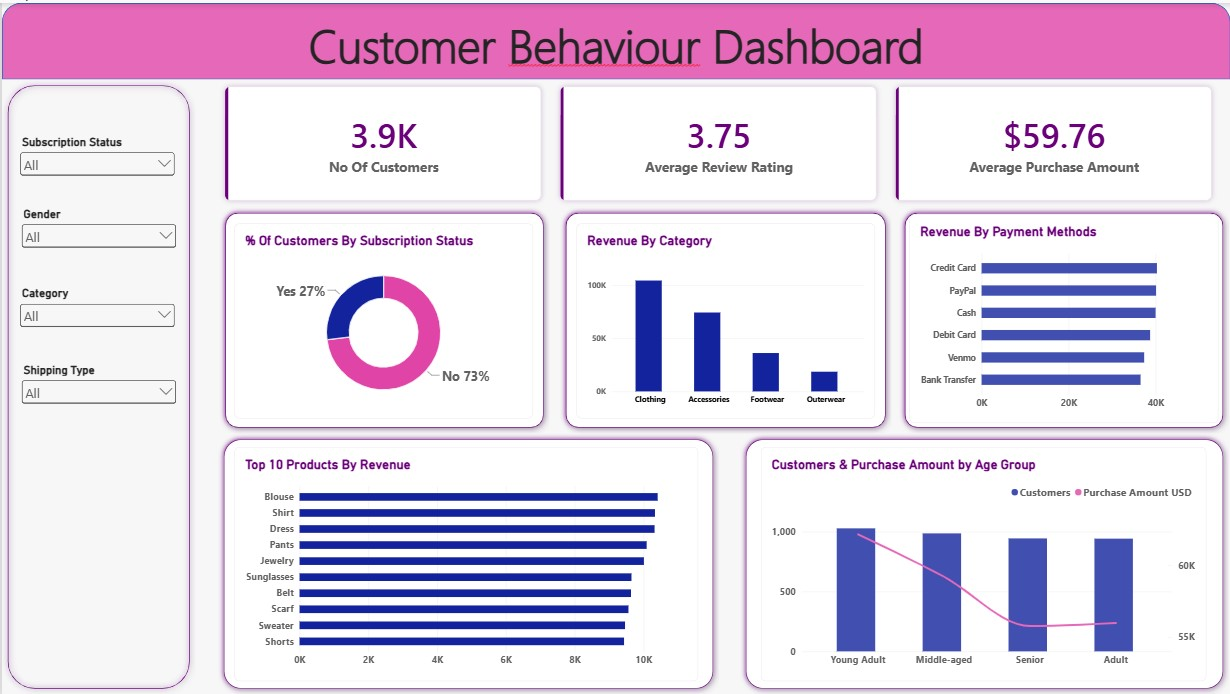

This screenshot's page, from the dashboard's own definition file:
{"tool":"powerbi","page":{"name":"Page 1","canvas":[1920,1080],"ordinal":0},"visuals":[{"type":"cardVisual","fields":{"Data":["customer_behaviour_analysis customer_behavior.no_of_customer","customer_behaviour_analysis customer_behavior.average_review_rating","customer_behaviour_analysis customer_behavior.average_purchase_amount"]},"box":[337.6,119.6,1564.3,200],"z":0},{"type":"shape","box":[0,0,1920.1,119.6],"z":1000},{"type":"textbox","box":[0,16.4,1920.1,103.2],"z":2000},{"type":"shape","box":[339.9,318.8,515.8,354],"z":3000},{"type":"donutChart","title":"% Of Customers By Subscription Status","fields":{"Category":["customer_behaviour_analysis customer_behavior.subscription_status"],"Y":["CountNonNull(customer_behaviour_analysis customer_behavior.customer_id)"]},"box":[363.4,344.6,466.6,304.8],"z":4000},{"type":"shape","box":[1402,318.8,515.8,354],"z":5000},{"type":"shape","box":[872.1,318.8,518.1,354],"z":6000},{"type":"clusteredColumnChart","title":"Revenue By Category","fields":{"Y":["Sum(customer_behaviour_analysis customer_behavior.purchase_amount)"],"Category":["customer_behaviour_analysis customer_behavior.category"]},"box":[897.9,344.6,466.6,304.8],"z":7000},{"type":"shape","box":[0,119.6,302.4,961.2],"z":8000},{"type":"shape","box":[1153.5,672.9,764.3,407.9],"z":9000},{"type":"slicer","fields":{"Values":["customer_behaviour_analysis customer_behavior.subscription_status"]},"box":[23.4,206.3,250.9,82.1],"z":10000},{"type":"shape","box":[337.6,672.9,783.1,407.9],"z":11000},{"type":"clusteredBarChart","title":"Top 10 Products By Revenue","fields":{"Category":["customer_behaviour_analysis customer_behavior.item_purchased"],"Y":["Sum(customer_behaviour_analysis customer_behavior.purchase_amount)"]},"box":[363.4,694,724.4,365.7],"z":12000},{"type":"lineClusteredColumnComboChart","title":"Customers & Purchase Amount by Age Group","fields":{"Category":["customer_behaviour_analysis customer_behavior.age_group"],"Y":["CountNonNull(customer_behaviour_analysis customer_behavior.customer_id)"],"Y2":["Sum(customer_behaviour_analysis customer_behavior.purchase_amount)"]},"box":[1186.3,694,696.3,365.7],"z":13000},{"type":"slicer","fields":{"Values":["customer_behaviour_analysis customer_behavior.gender"]},"box":[25.8,318.8,250.9,82.1],"z":13001},{"type":"slicer","fields":{"Values":["customer_behaviour_analysis customer_behavior.category"]},"box":[23.4,443.1,250.9,82.1],"z":13002},{"type":"slicer","fields":{"Values":["customer_behaviour_analysis customer_behavior.shipping_type"]},"box":[25.8,562.7,250.9,82.1],"z":13003},{"type":"clusteredBarChart","title":"Revenue By Payment Methods","fields":{"Category":["customer_behaviour_analysis customer_behavior.payment_method"],"Y":["Sum(customer_behaviour_analysis customer_behavior.purchase_amount)"]},"box":[1418.4,330.6,483,325.9],"z":13004}]}

Visuals, with their boxes in screenshot pixels (x1, y1, x2, y2), scaled from the page's 1920x1080 canvas onto the 1230x694 screenshot:
cardVisual - customer_behaviour_analysis customer_behavior.no_of_customer x customer_behaviour_analysis customer_behavior.average_review_rating: x1=216, y1=77, x2=1218, y2=205
shape: x1=0, y1=0, x2=1229, y2=77
textbox: x1=0, y1=11, x2=1229, y2=77
shape: x1=218, y1=205, x2=548, y2=432
"% Of Customers By Subscription Status" donutChart: x1=233, y1=221, x2=532, y2=417
shape: x1=898, y1=205, x2=1229, y2=432
shape: x1=559, y1=205, x2=891, y2=432
"Revenue By Category" clusteredColumnChart: x1=575, y1=221, x2=874, y2=417
shape: x1=0, y1=77, x2=194, y2=693
shape: x1=739, y1=432, x2=1229, y2=693
slicer - customer_behaviour_analysis customer_behavior.subscription_status: x1=15, y1=133, x2=176, y2=185
shape: x1=216, y1=432, x2=718, y2=693
"Top 10 Products By Revenue" clusteredBarChart: x1=233, y1=446, x2=697, y2=681
"Customers & Purchase Amount by Age Group" lineClusteredColumnComboChart: x1=760, y1=446, x2=1206, y2=681
slicer - customer_behaviour_analysis customer_behavior.gender: x1=17, y1=205, x2=177, y2=258
slicer - customer_behaviour_analysis customer_behavior.category: x1=15, y1=285, x2=176, y2=337
slicer - customer_behaviour_analysis customer_behavior.shipping_type: x1=17, y1=362, x2=177, y2=414
"Revenue By Payment Methods" clusteredBarChart: x1=909, y1=212, x2=1218, y2=422
